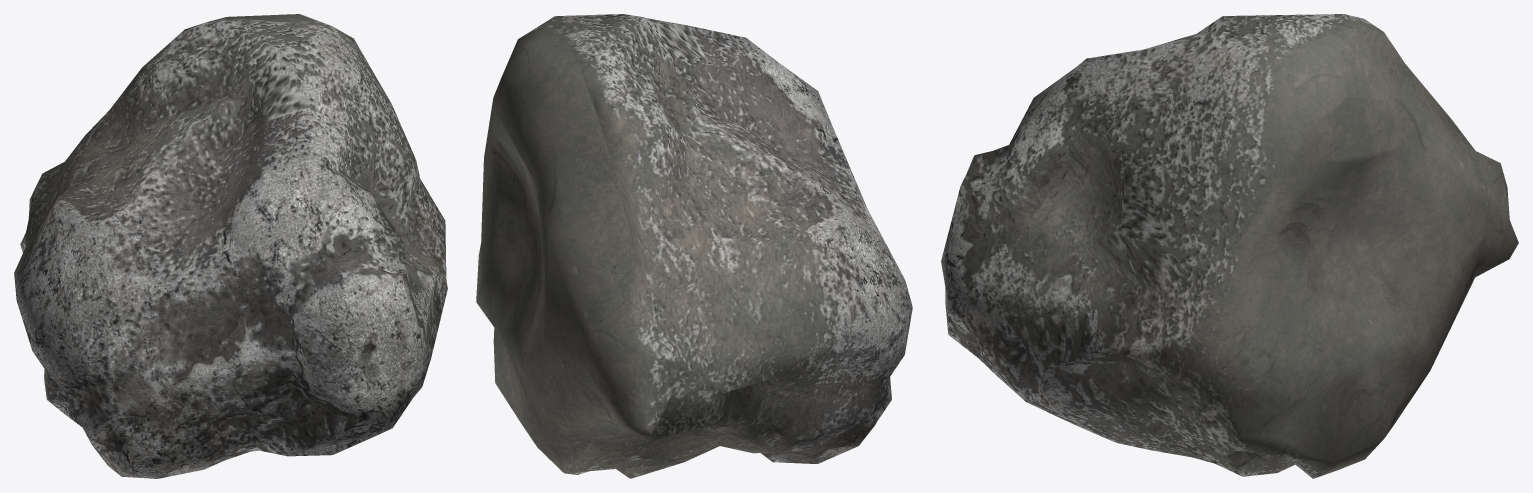
File: rockAA.glb
The picture shows the model from 3 angles, left to right: view 1: azimuth 30°, elevation 25°; view 2: azimuth 150°, elevation 25°; view 3: azimuth 270°, elevation 25°; orthographic projection. The views are drawn at different scales.
Parts seen in each view (by area): view 1: rockAA; view 2: rockAA; view 3: rockAA.
Boxes of the visible parts, x1,y1,x2,y2 form: rockAA: [14, 14, 447, 478]; rockAA: [476, 14, 912, 478]; rockAA: [941, 14, 1518, 478].
Size of the model in its own units: 0.1681 by 0.164 by 0.1866.
1 material, 1 textured.
